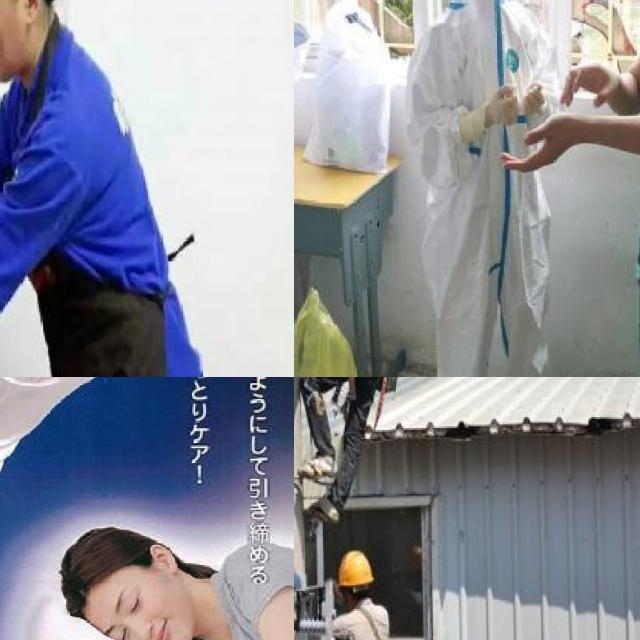No_Ear-Protection: (148, 540, 180, 576), (18, 0, 44, 22)
No_Glasses: (106, 585, 143, 640)
face_nomask: (95, 580, 187, 640), (0, 0, 31, 81)
hand_glove: (485, 84, 519, 128), (522, 82, 545, 117)
hand_noglove: (501, 113, 576, 173), (559, 59, 618, 110)
head_helmet: (334, 548, 377, 592)
head_nohelmet: (62, 517, 142, 602)
person: (0, 0, 214, 377), (380, 0, 580, 375), (32, 505, 294, 640), (548, 0, 640, 377), (295, 377, 409, 529), (309, 547, 419, 640)
shoes: (297, 448, 336, 482), (309, 489, 343, 523)
